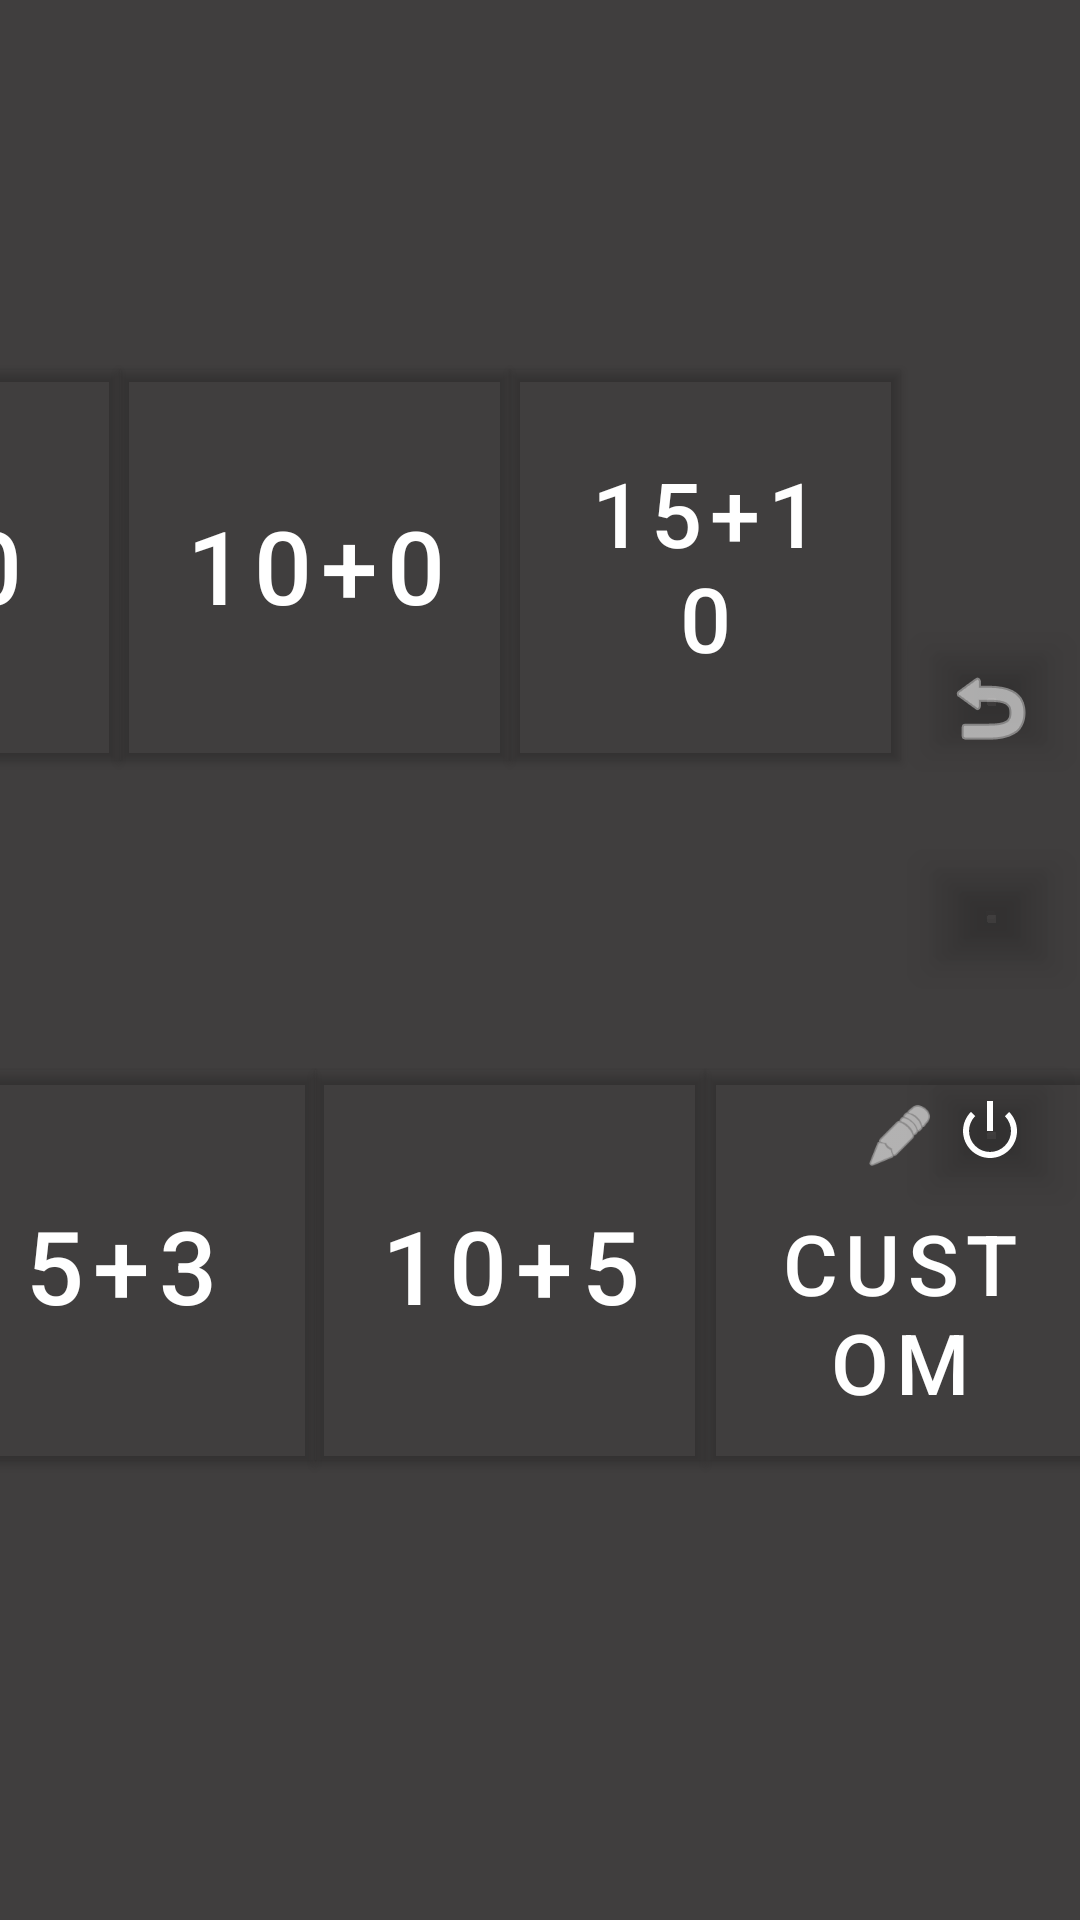

Icons on this 1080 x 1920 Android screen, each with the point to tap as point (x, y):
lock power off: point (990, 1129)
revert: point (991, 709)
